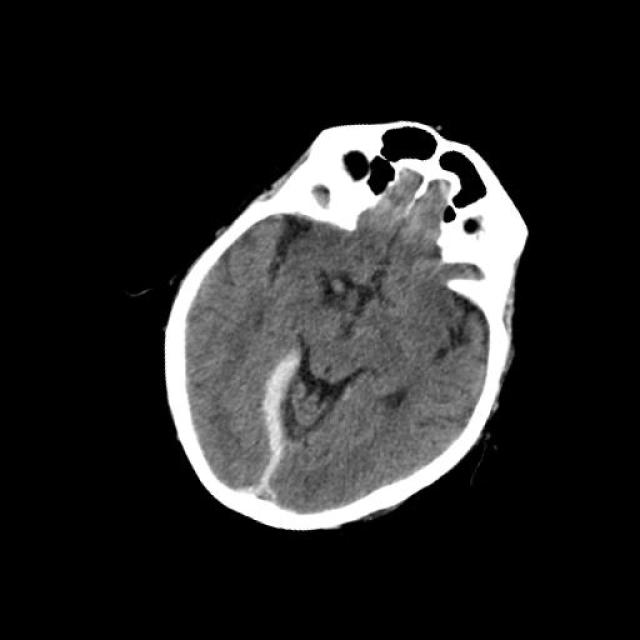Subdural: (226, 336, 322, 510)
